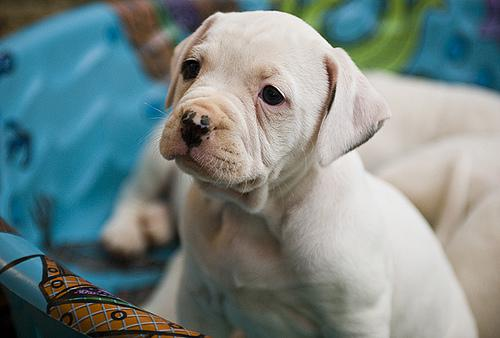dog-american_bulldog: (158, 10, 389, 184)
